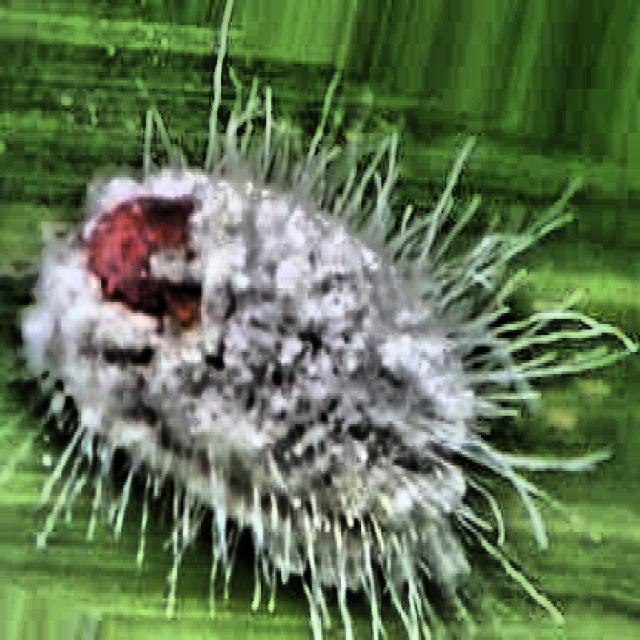Mealy-bug: (2, 27, 564, 637)
